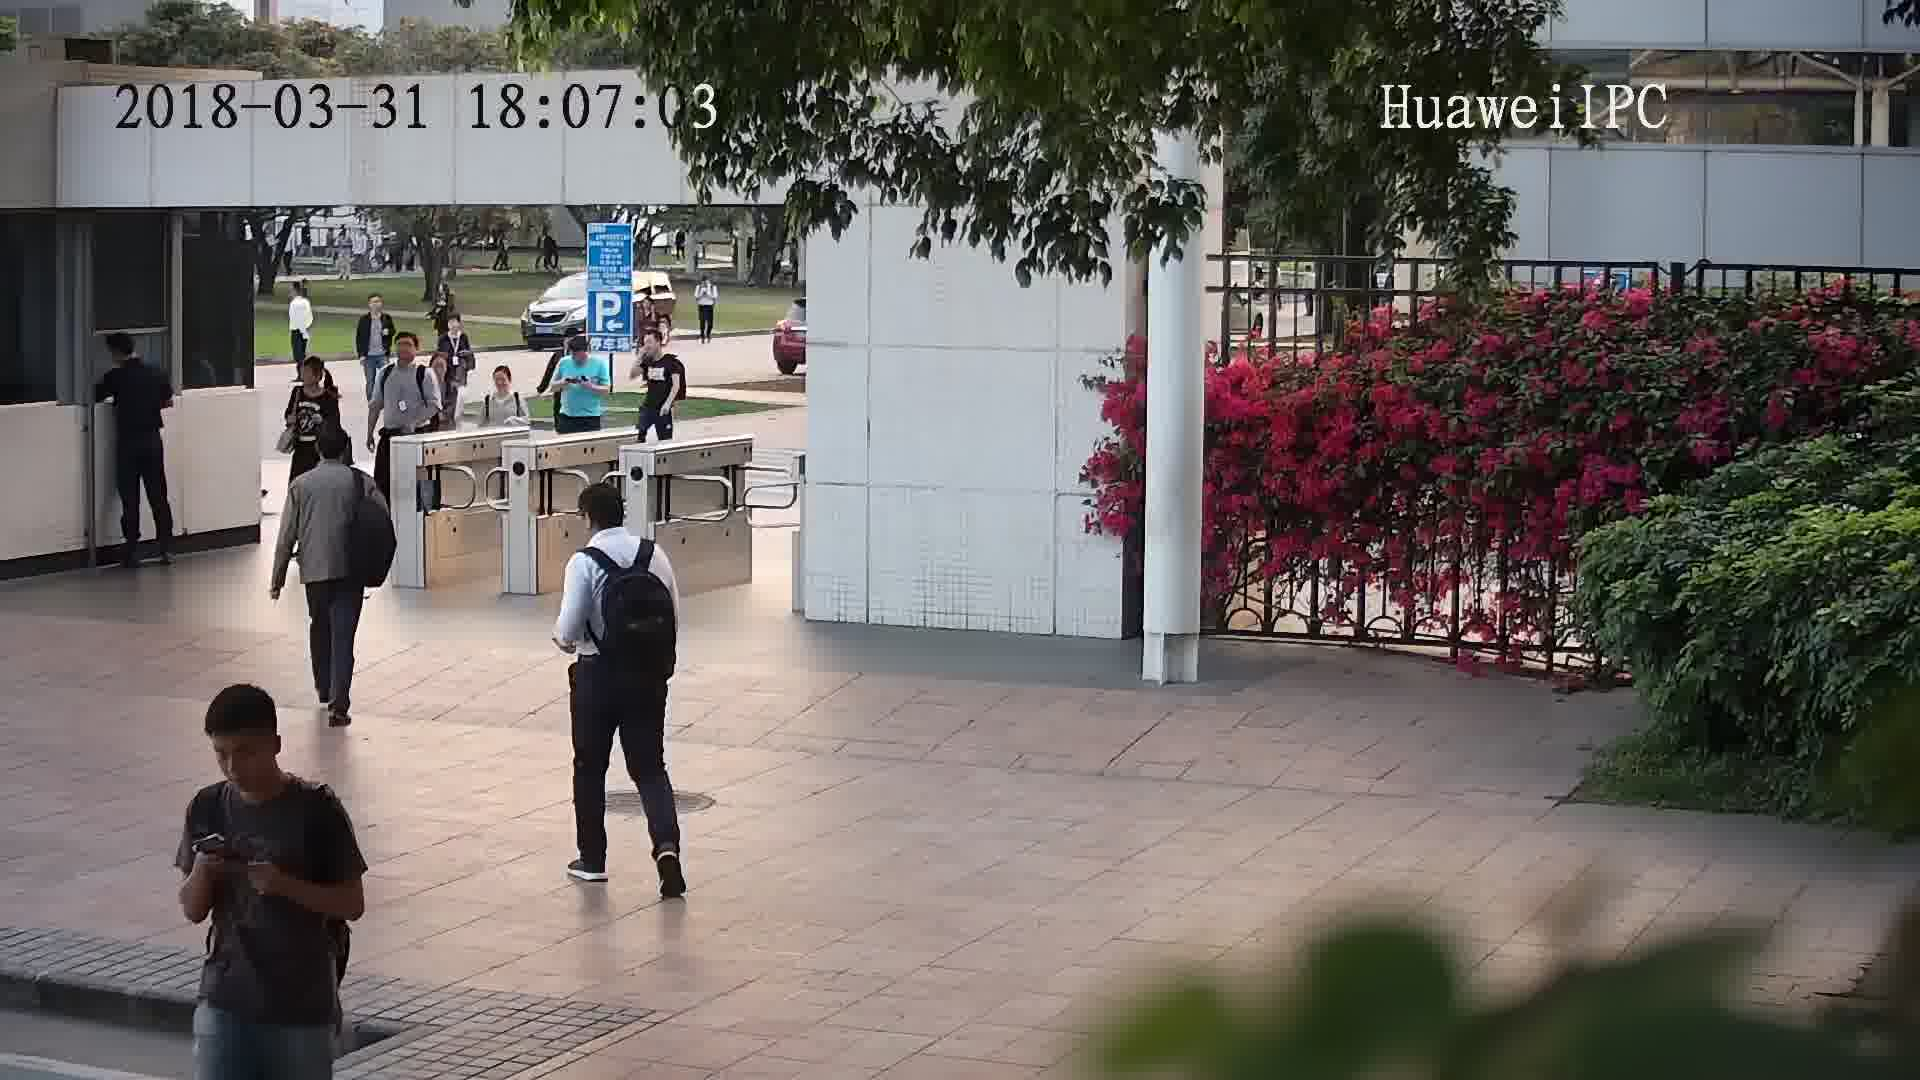face: (208, 724, 277, 793)
person: (185, 684, 344, 836), (568, 478, 669, 580), (291, 424, 382, 498), (102, 329, 166, 388), (379, 331, 438, 386), (289, 354, 341, 410), (556, 333, 607, 379), (637, 324, 684, 369), (483, 362, 526, 408), (353, 289, 394, 336), (419, 349, 462, 391), (436, 309, 474, 347), (287, 276, 314, 310), (638, 294, 664, 323), (691, 272, 716, 293)
